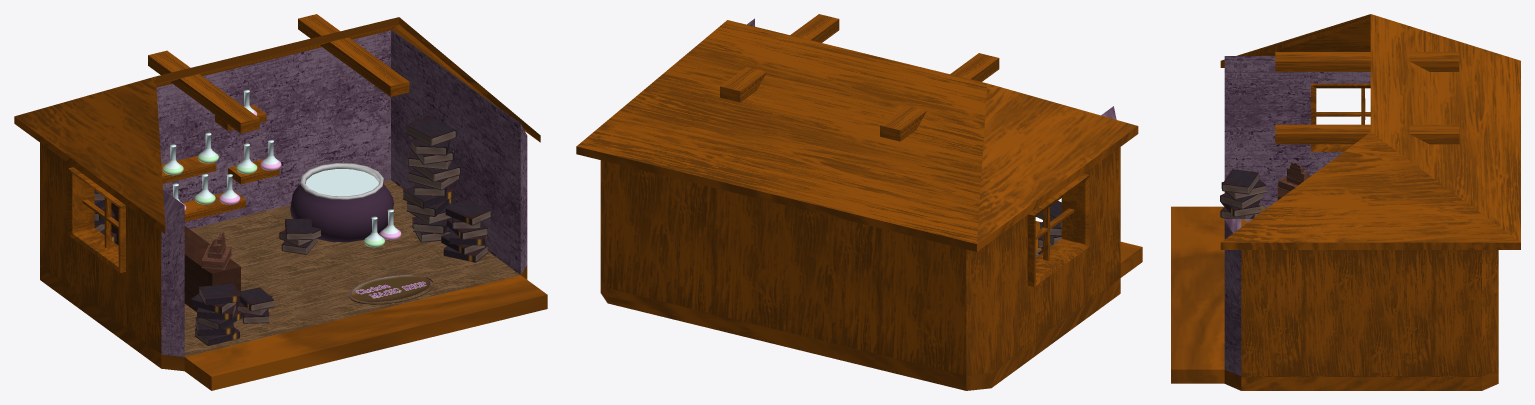
Rendered from MagicShop.fbx.
The picture shows the model from 3 angles, left to right: view 1: azimuth 30°, elevation 25°; view 2: azimuth 150°, elevation 25°; view 3: azimuth 270°, elevation 25°; orthographic projection. The views are drawn at different scales.
Parts seen in each view (by area): view 1: フラスコ; view 2: フラスコ; view 3: フラスコ.
Part boxes in pixels (x1,y1,x2,y2): フラスコ: (14, 14, 547, 390); フラスコ: (576, 14, 1142, 390); フラスコ: (1171, 14, 1520, 390).
Size of the model in its own units: 1175 by 689 by 955.
